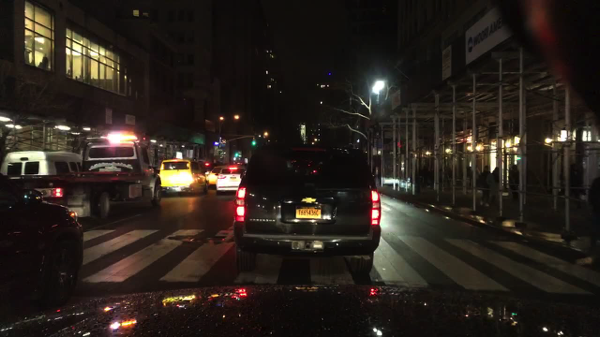car: (233, 140, 381, 277), (0, 171, 83, 308), (0, 150, 86, 176), (158, 157, 208, 195), (214, 163, 246, 195), (207, 165, 227, 188)
person: (559, 162, 581, 210), (587, 173, 599, 245), (476, 162, 493, 205), (507, 160, 518, 201), (466, 160, 476, 184), (419, 164, 430, 185), (492, 165, 501, 180)
traffic light: (250, 137, 256, 147), (234, 149, 239, 160)
traffic sign: (214, 148, 224, 152), (221, 144, 228, 146)
truck: (11, 139, 163, 222)
